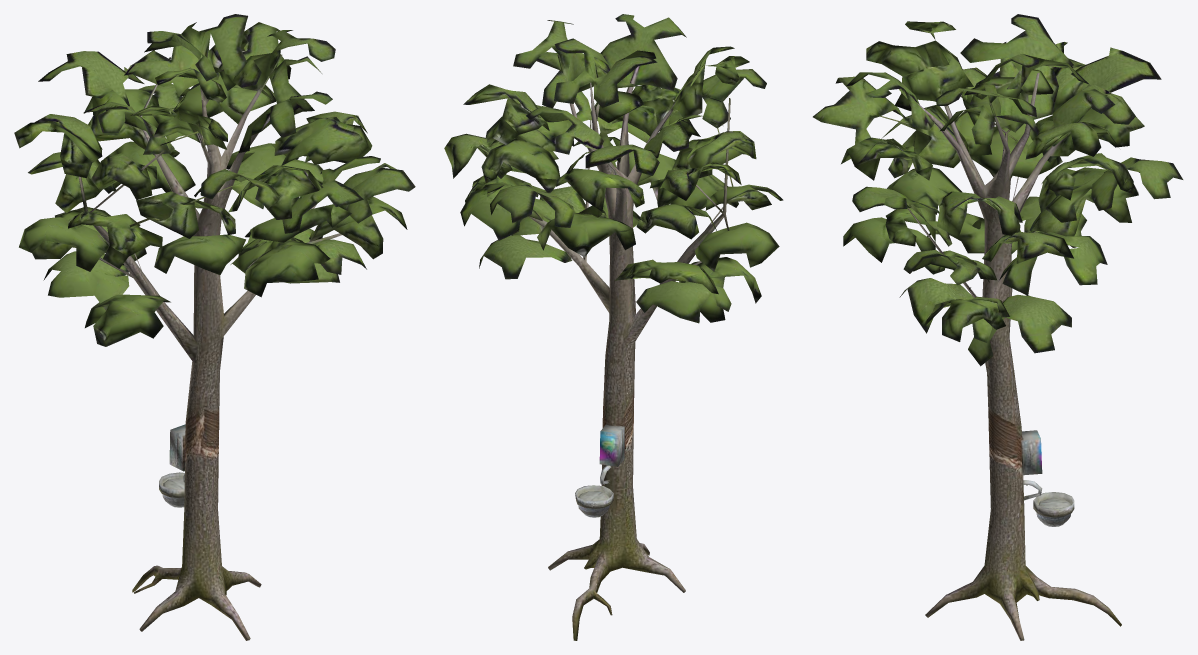
Rendered from rubber_tree.glb.
3 views of the same model, side by side, from view 1: azimuth 30°, elevation 25°; view 2: azimuth 150°, elevation 25°; view 3: azimuth 270°, elevation 25° (orthographic). The views are drawn at different scales.
Parts seen in each view (by area): view 1: Body; view 2: Body; view 3: Body.
Part boxes in pixels (x1,y1,x2,y2): Body: [14, 14, 415, 640]; Body: [444, 14, 783, 640]; Body: [813, 14, 1183, 640].
Bounding box in the file's own units: 6.2 × 10 × 5.66.
Materials: 1 (1 with a texture image).
